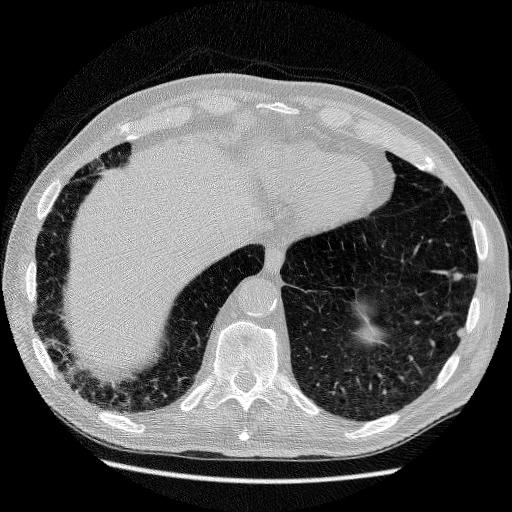nodule: (454, 326, 466, 338)
